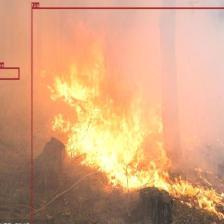fire: (31, 7, 224, 224), (0, 67, 19, 79)
